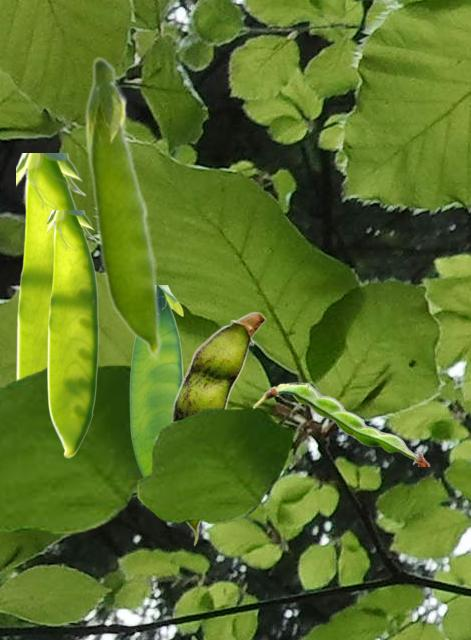pea: (84, 55, 162, 360), (170, 311, 265, 545), (16, 153, 86, 377), (253, 382, 429, 465), (47, 210, 98, 457), (129, 285, 184, 475)
